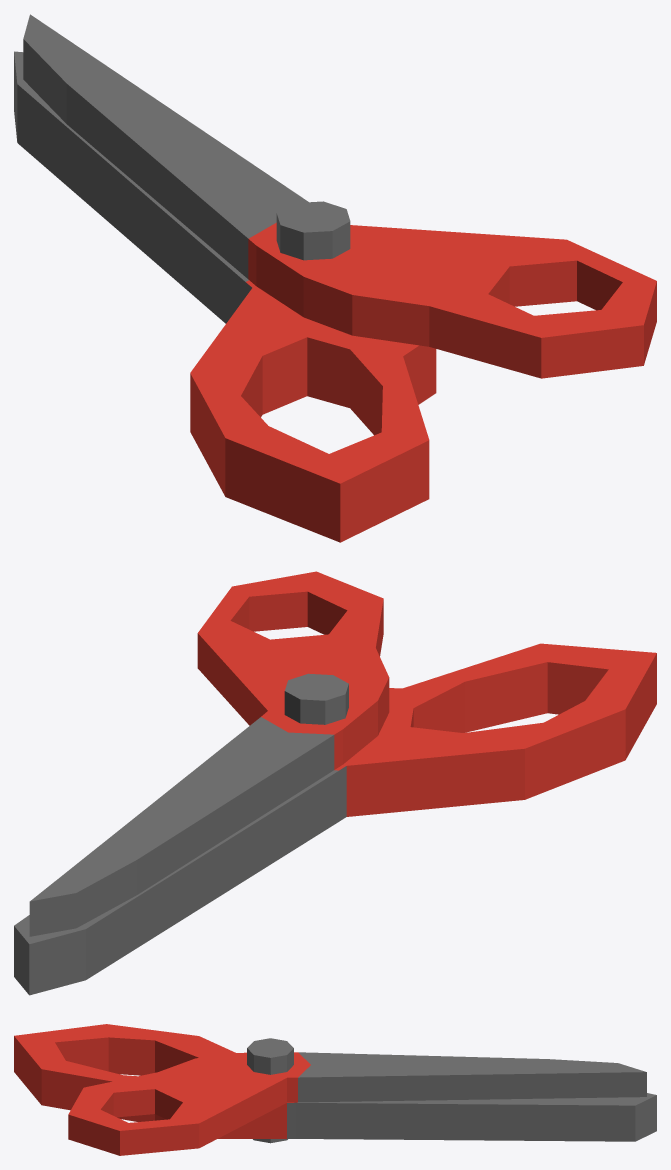
Rendered from PR_Scissors.fbx.
3 views of the same model, one above another, from view 1: azimuth 30°, elevation 25°; view 2: azimuth 150°, elevation 25°; view 3: azimuth 270°, elevation 25° (orthographic). The views are drawn at different scales.
Visible parts, largest first — view 1: PR_scissorsR, PR_scissorsL, PR_scissorsBolt; view 2: PR_scissorsL, PR_scissorsR, PR_scissorsBolt; view 3: PR_scissorsR, PR_scissorsL, PR_scissorsBolt.
Boxes of the visible parts, left/top/right/bottom form: PR_scissorsR: left=23, top=14, right=656, bottom=378; PR_scissorsL: left=14, top=51, right=436, bottom=542; PR_scissorsBolt: left=276, top=201, right=350, bottom=260; PR_scissorsL: left=14, top=643, right=656, bottom=995; PR_scissorsR: left=29, top=571, right=389, bottom=936; PR_scissorsBolt: left=284, top=673, right=348, bottom=724; PR_scissorsR: left=68, top=1052, right=646, bottom=1155; PR_scissorsL: left=14, top=1024, right=656, bottom=1141; PR_scissorsBolt: left=247, top=1038, right=293, bottom=1143.
Bounding box in the file's own units: 20.11 × 6.05 × 41.3.
